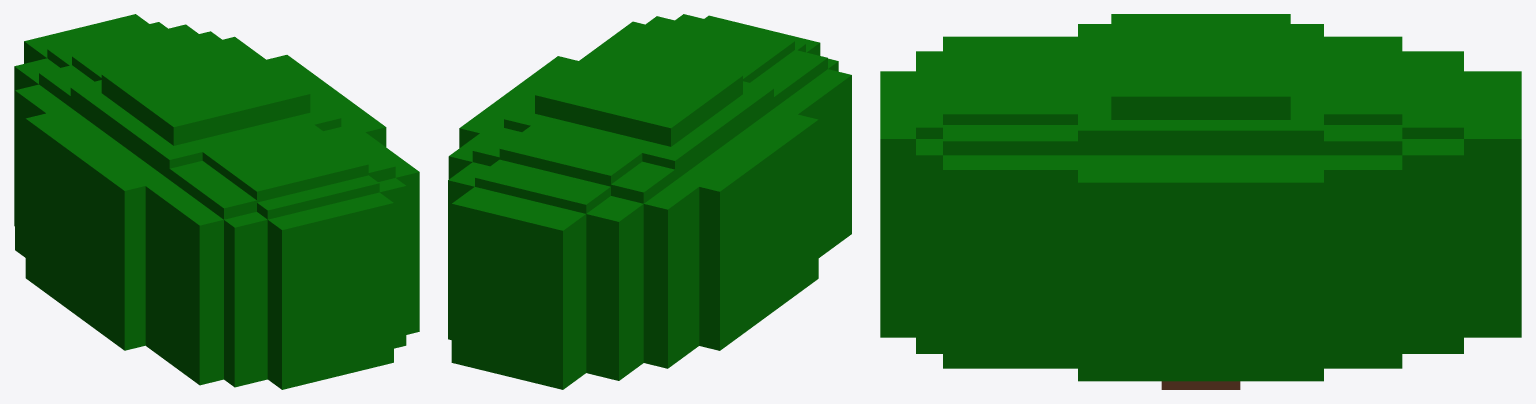
Rendered from Bush2.fbx.
3 views of the same model, side by side, from view 1: azimuth 30°, elevation 25°; view 2: azimuth 150°, elevation 25°; view 3: azimuth 270°, elevation 25° (orthographic). The views are drawn at different scales.
Visible parts, largest first — view 1: pCube1; view 2: pCube1; view 3: pCube1.
Boxes of the visible parts, <box> form: pCube1: <box>14,14,419,389</box>; pCube1: <box>448,14,851,389</box>; pCube1: <box>880,14,1521,389</box>.
Bounding box in the file's own units: 4.76 × 4.45 × 8.14.
